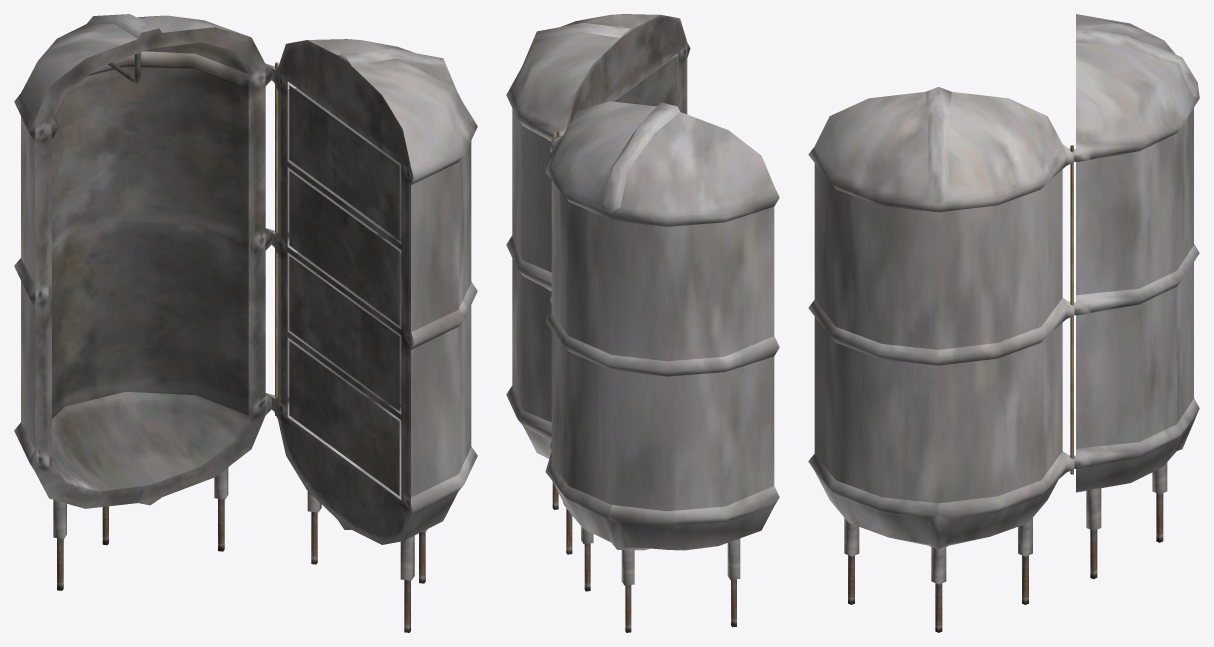
File: eqp_travel_luggage_l2.fbx
3 renders of one model, left to right at view 1: azimuth 30°, elevation 25°; view 2: azimuth 150°, elevation 25°; view 3: azimuth 270°, elevation 25°, orthographic. The views are drawn at different scales.
Visible parts, largest first — view 1: mesh_node; view 2: mesh_node; view 3: mesh_node.
Boxes of the visible parts, box(x1,y1,x2,y2) form: mesh_node: box(14, 14, 477, 632); mesh_node: box(506, 14, 779, 632); mesh_node: box(808, 14, 1199, 632).
Bounding box in the file's own units: 0.7924 × 1.16 × 0.8084.
